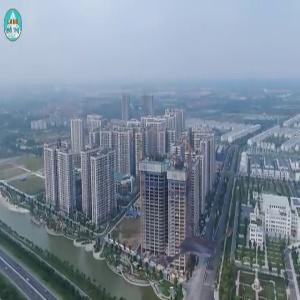drone: (152, 215, 235, 298)
